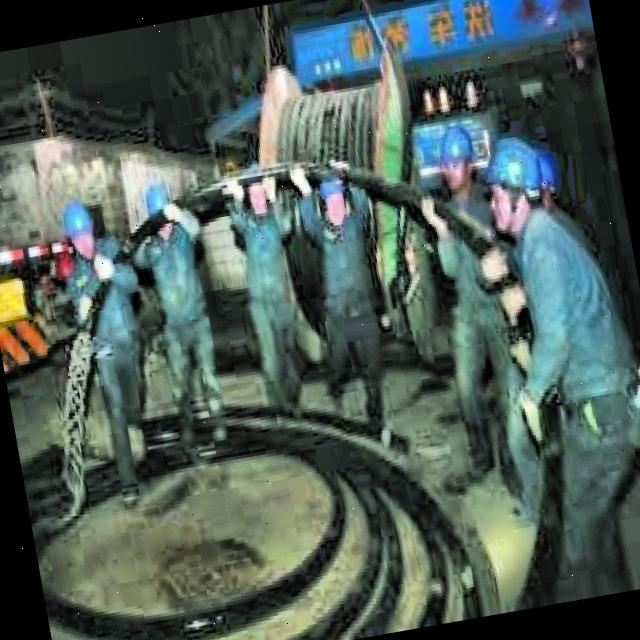helmet: (479, 127, 566, 240), (428, 114, 480, 197), (54, 192, 102, 266), (140, 176, 177, 238)
